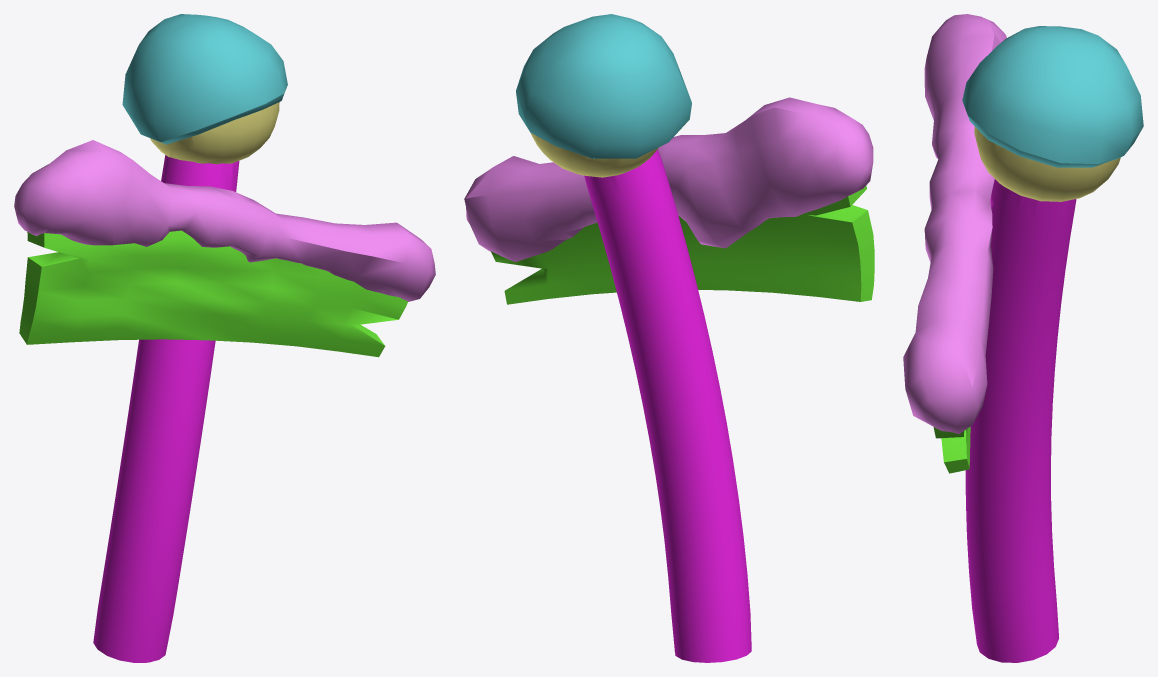
The picture shows the model from 3 angles, left to right: view 1: azimuth 30°, elevation 25°; view 2: azimuth 150°, elevation 25°; view 3: azimuth 270°, elevation 25°; orthographic projection. The views are drawn at different scales.
Visible parts, largest first — view 1: NPSign_NPSign_0.007, NPSign_NPSign_0.004, NPSign_NPSign_0, split_parent_1, NPSign_NPSign_0.019; view 2: NPSign_NPSign_0, NPSign_NPSign_0.004, split_parent_1, NPSign_NPSign_0.007, NPSign_NPSign_0.019; view 3: NPSign_NPSign_0, NPSign_NPSign_0.004, split_parent_1, NPSign_NPSign_0.019, NPSign_NPSign_0.007.
Part boxes in pixels (x1,y1,x2,y2): NPSign_NPSign_0.007: (19,230,407,357); NPSign_NPSign_0.004: (14,140,435,301); NPSign_NPSign_0: (93,155,239,662); split_parent_1: (122,14,287,144); NPSign_NPSign_0.019: (150,102,279,164); NPSign_NPSign_0: (584,149,751,662); NPSign_NPSign_0.004: (464,97,873,261); split_parent_1: (516,14,691,158); NPSign_NPSign_0.007: (490,186,874,304); NPSign_NPSign_0.019: (530,133,658,177); NPSign_NPSign_0: (965,179,1076,662); NPSign_NPSign_0.004: (903,14,1006,434); split_parent_1: (962,26,1143,167); NPSign_NPSign_0.019: (974,126,1120,201); NPSign_NPSign_0.007: (933,426,970,473).
Size of the model in its own units: 0.6986 by 1 by 0.3306.
